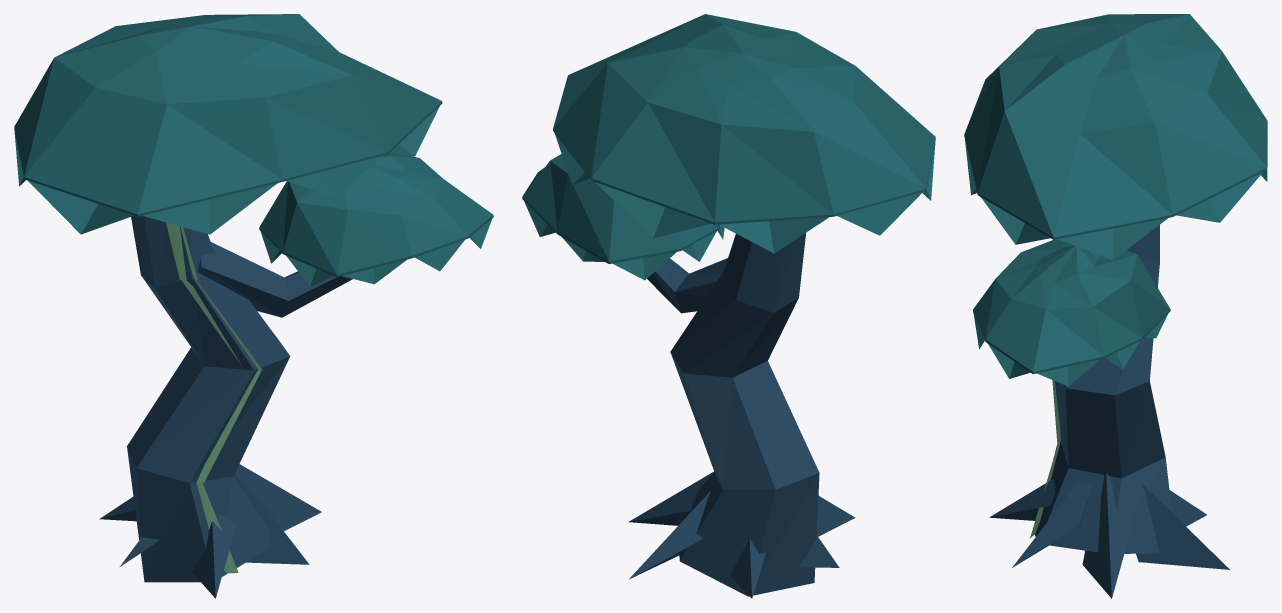
The picture shows the model from 3 angles, left to right: view 1: azimuth 30°, elevation 25°; view 2: azimuth 150°, elevation 25°; view 3: azimuth 270°, elevation 25°; orthographic projection.
Parts seen in each view (by area): view 1: 复用森林树_6.001; view 2: 复用森林树_6.001; view 3: 复用森林树_6.001.
Part boxes in pixels (left/top/right/bottom): 复用森林树_6.001: left=14, top=14, right=493, bottom=598; 复用森林树_6.001: left=522, top=14, right=935, bottom=598; 复用森林树_6.001: left=964, top=14, right=1267, bottom=598.
Size of the model in its own units: 0.3976 by 0.468 by 0.2448.
